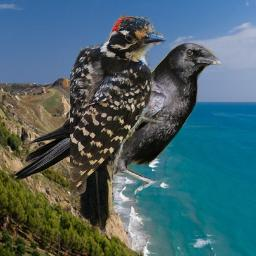Crow: (14, 41, 227, 216)
Woodpecker: (70, 13, 166, 236)
